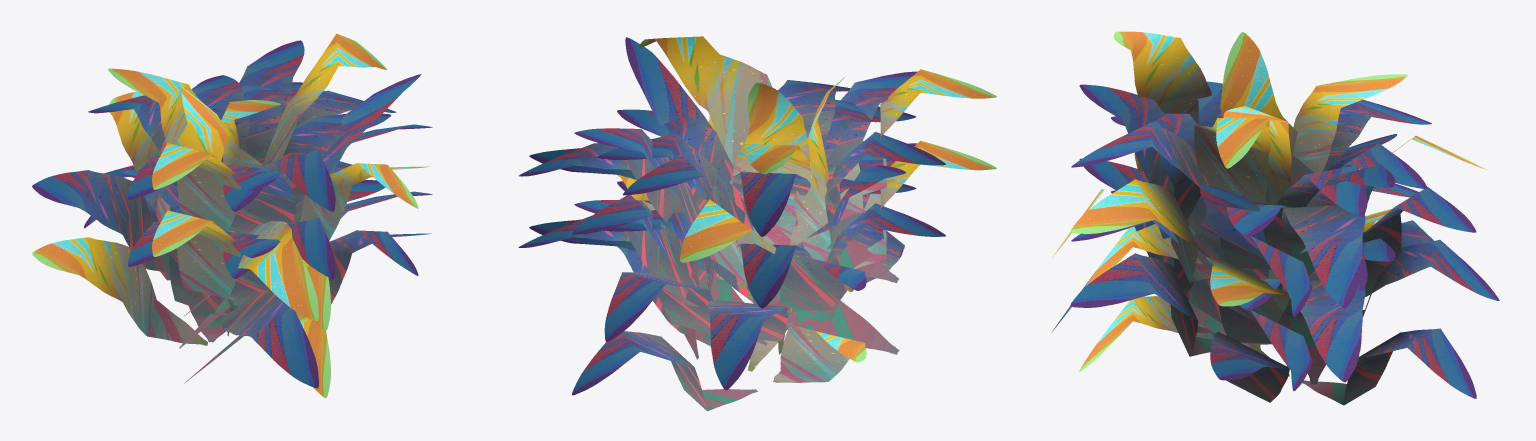
The model's file is plant_0.FBX.
3 renders of one model, left to right at view 1: azimuth 30°, elevation 25°; view 2: azimuth 150°, elevation 25°; view 3: azimuth 270°, elevation 25°, orthographic. The views are drawn at different scales.
Visible parts, largest first — view 1: plantPlane9840; view 2: plantPlane9840; view 3: plantPlane9840.
Boxes of the visible parts, x1,y1,x2,y2 form: plantPlane9840: (32, 33, 432, 398); plantPlane9840: (518, 36, 996, 411); plantPlane9840: (1051, 31, 1499, 405).
Size of the model in its own units: 24.53 by 18.9 by 23.26.
Materials: 2 (2 with a texture image).
